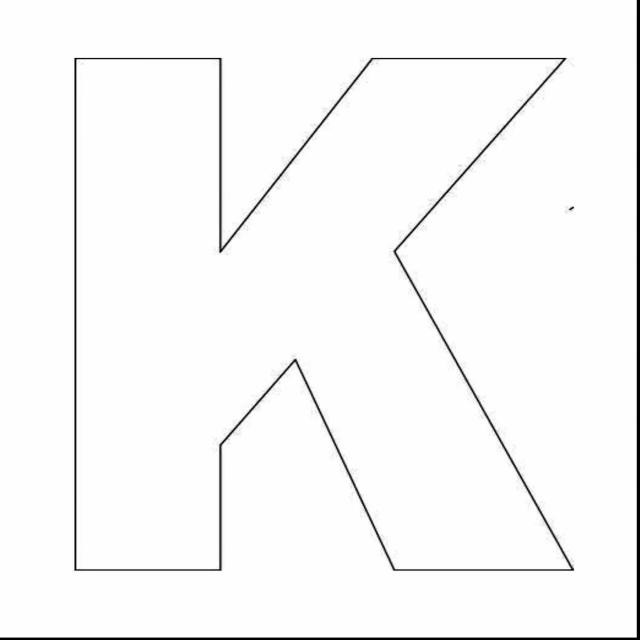K: (6, 29, 620, 614)
